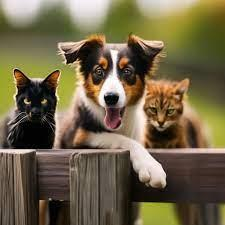animals: (58, 36, 168, 191), (1, 66, 62, 152), (146, 75, 210, 153)
